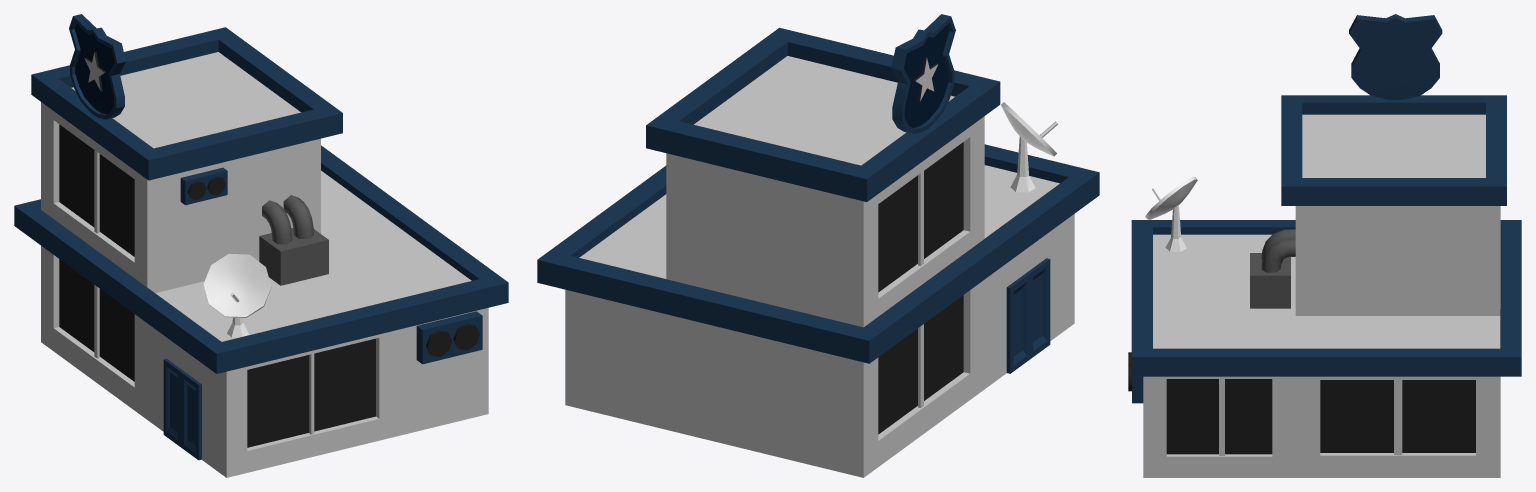
File: PoliceStation.fbx
3 renders of one model, left to right at view 1: azimuth 30°, elevation 25°; view 2: azimuth 150°, elevation 25°; view 3: azimuth 270°, elevation 25°, orthographic. The views are drawn at different scales.
Parts seen in each view (by area): view 1: PoliceStation; view 2: PoliceStation; view 3: PoliceStation.
Part boxes in pixels (x1=…): PoliceStation: x1=14, y1=14, x2=508, y2=477; PoliceStation: x1=537, y1=14, x2=1099, y2=477; PoliceStation: x1=1128, y1=14, x2=1521, y2=477.
Bounding box in the file's own units: 1004 × 1216 × 1159.
